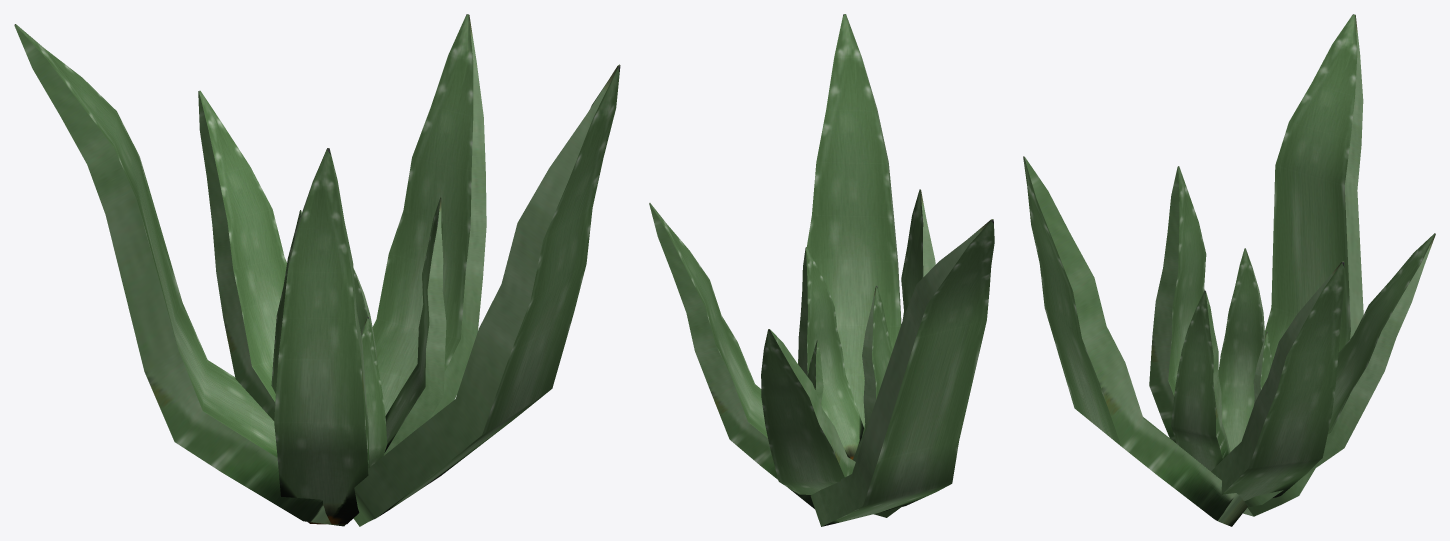
Rendered from aloe_vera.glb.
3 renders of one model, left to right at view 1: azimuth 30°, elevation 25°; view 2: azimuth 150°, elevation 25°; view 3: azimuth 270°, elevation 25°, orthographic. The views are drawn at different scales.
Visible parts, largest first — view 1: pCube10; view 2: pCube10; view 3: pCube10.
Boxes of the visible parts, x1,y1,x2,y2 form: pCube10: (14,14,620,526); pCube10: (649,14,994,526); pCube10: (1023,14,1435,526).
Size of the model in its own units: 9.31 by 10.23 by 9.34.
Materials: 1 (1 with a texture image).
